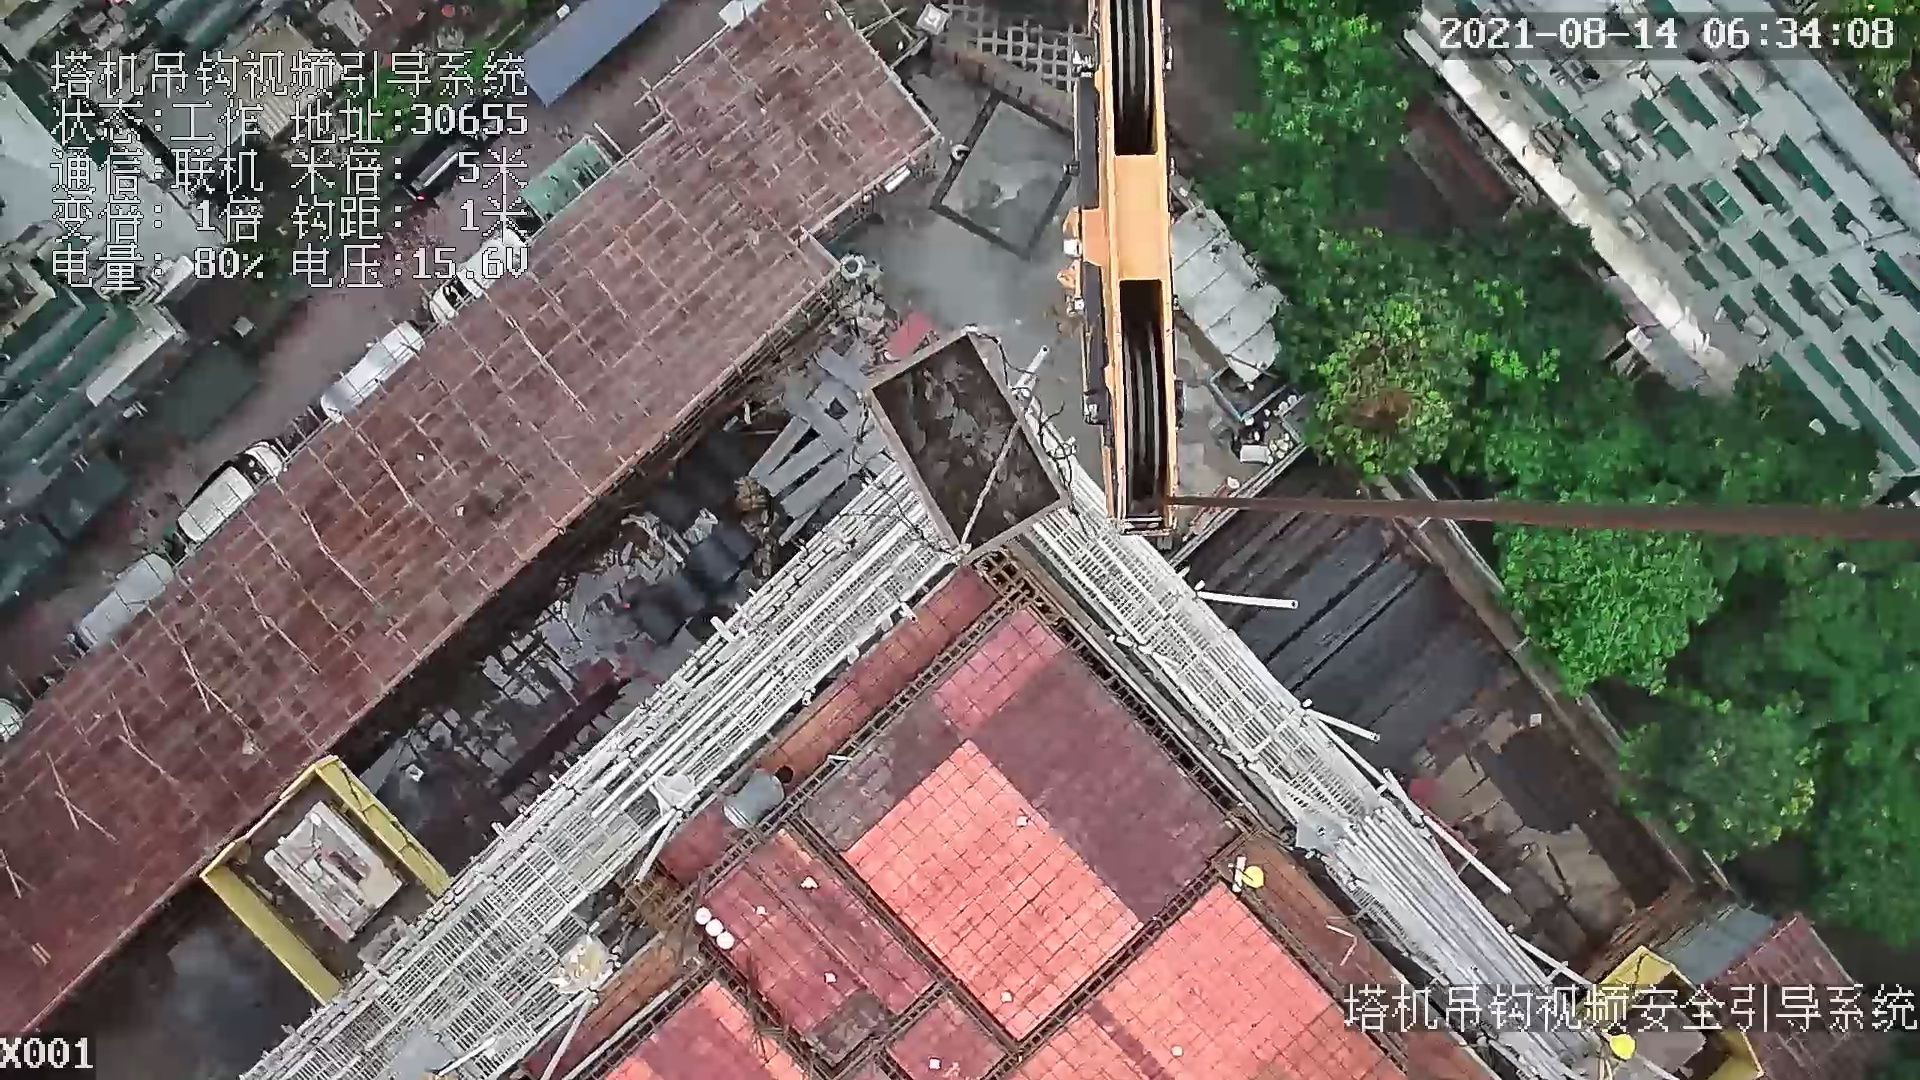helmet: (1609, 1030, 1640, 1062), (1242, 866, 1266, 891)
hook: (1050, 4, 1178, 537)
hopper: (862, 318, 1074, 581)
person: (720, 771, 805, 841)
